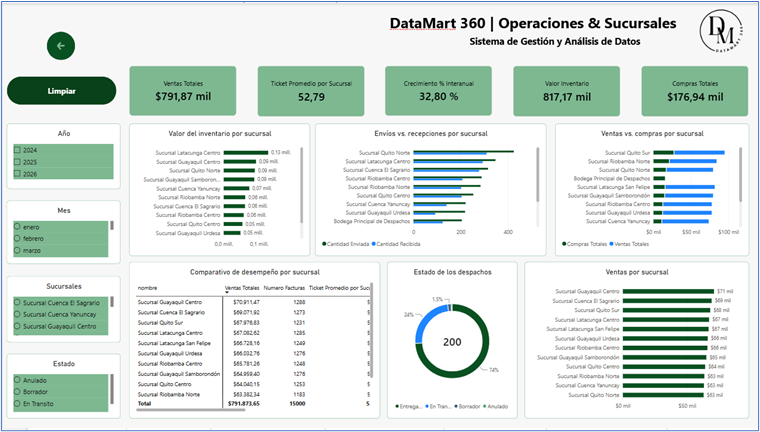

This screenshot's page, from the dashboard's own definition file:
{"tool":"powerbi","page":{"name":"Operaciones & Sucursales","canvas":[1920,1080],"ordinal":6},"visuals":[{"type":"textbox","box":[973.6,23.5,760.1,55.8],"z":0,"group":"g2"},{"type":"listSlicer","fields":{"Values":["Calendario.Año"]},"box":[11.1,305.6,288.9,166.7],"z":0},{"type":"listSlicer","title":"Mes","fields":{"Values":["Calendario.Nombre Mes"]},"box":[11.1,501.9,288.9,161.1],"z":1000},{"type":"listSlicer","title":"Sucursales","fields":{"Values":["sucursales.nombre"]},"box":[11.1,692.6,288.9,168.5],"z":2000},{"type":"listSlicer","title":"Estado","fields":{"Values":["despachos_sucursales.estado"]},"box":[11.1,890.7,288.9,164.8],"z":3000},{"type":"actionButton","box":[113,72.2,72.4,72.4],"z":4000},{"type":"actionButton","title":"Limpiar","box":[11.1,187,278.5,71.6],"z":5000},{"type":"group","id":"g1","title":"Grupo 4","box":[973.6,23.5,760.1,97.7],"z":6000},{"type":"cardVisual","fields":{"Data":["_Medidas.Compras Totales"]},"box":[1623.3,159.3,273,129.6],"z":7000,"group":"g3"},{"type":"barChart","title":"Ventas por sucursal","fields":{"Category":["sucursales.nombre"],"Y":["_Medidas.Ventas Totales"]},"box":[1325.9,657.4,570.4,398.1],"z":7000},{"type":"cardVisual","fields":{"Data":["_Medidas.Ventas Totales"]},"box":[322.2,159.3,273,127.8],"z":8000,"group":"g3"},{"type":"barChart","title":"Ventas vs. compras por sucursal","fields":{"Category":["sucursales.nombre"],"Y":["_Medidas.Compras Totales","_Medidas.Ventas Totales"]},"box":[1403.7,305.6,492.6,337],"z":8000},{"type":"cardVisual","fields":{"Data":["_Medidas.Valor Inventario"]},"box":[1298,159.3,273,129.6],"z":9000,"group":"g3"},{"type":"clusteredBarChart","title":"Valor del inventario por sucursal","fields":{"Category":["sucursales.nombre"],"Y":["_Medidas.Valor Inventario"]},"box":[322.2,305.6,459.3,337],"z":9000},{"type":"cardVisual","fields":{"Data":["_Medidas.Crecimiento % Interanual"]},"box":[972.8,159.3,273,127.8],"z":10000,"group":"g3"},{"type":"pivotTable","title":"Comparativo de desempeño por sucursal","fields":{"Rows":["sucursales.nombre"],"Values":["_Medidas.Ventas Totales","_Medidas.Numero Facturas","_Medidas.Ticket Promedio por Sucursal","_Medidas.Valor Inventario","_Medidas.Compras Totales","_Medidas.Crecimiento % Interanual"]},"box":[322.2,657.4,637,398.1],"z":10000},{"type":"group","id":"g2","title":"Grupo 2","box":[973.6,23.5,760.1,97.7],"z":11000,"group":"g1"},{"type":"cardVisual","fields":{"Data":["_Medidas.Ticket Promedio por Sucursal"]},"box":[647.5,159.3,273,129.6],"z":11000,"group":"g3"},{"type":"donutChart","title":"Estado de los despachos","fields":{"Category":["despachos_sucursales.estado"],"Y":["_Medidas.Total Despachos"]},"box":[977.8,657.4,331.5,398.1],"z":11000},{"type":"clusteredBarChart","title":"Envíos vs. recepciones por sucursal","fields":{"Category":["sucursales.nombre"],"Y":["_Medidas.Cantidad Enviada","_Medidas.Cantidad Recibida"]},"box":[794.4,305.6,587,337],"z":12000},{"type":"group","id":"g3","title":"Grupo 1","box":[322.2,159.3,1574.1,129.6],"z":13000},{"type":"image","box":[1757.4,3.7,138.9,137],"z":13001},{"type":"textbox","box":[1187,79.3,534.7,41.9],"z":16000,"group":"g2"}]}

Visuals, with their boxes in screenshot pixels (x1, y1, x2, y2), scaled from the page's 1920x1080 canvas onto the 760x432 screenshot:
textbox: [385, 9, 686, 32]
listSlicer - Calendario.Año: [4, 122, 119, 189]
"Mes" listSlicer: [4, 201, 119, 265]
"Sucursales" listSlicer: [4, 277, 119, 344]
"Estado" listSlicer: [4, 356, 119, 422]
actionButton: [45, 29, 73, 58]
"Limpiar" actionButton: [4, 75, 115, 103]
"Grupo 4" group: [385, 9, 686, 48]
cardVisual - _Medidas.Compras Totales: [643, 64, 751, 116]
"Ventas por sucursal" barChart: [525, 263, 751, 422]
cardVisual - _Medidas.Ventas Totales: [128, 64, 236, 115]
"Ventas vs. compras por sucursal" barChart: [556, 122, 751, 257]
cardVisual - _Medidas.Valor Inventario: [514, 64, 622, 116]
"Valor del inventario por sucursal" clusteredBarChart: [128, 122, 309, 257]
cardVisual - _Medidas.Crecimiento % Interanual: [385, 64, 493, 115]
"Comparativo de desempeño por sucursal" pivotTable: [128, 263, 380, 422]
"Grupo 2" group: [385, 9, 686, 48]
cardVisual - _Medidas.Ticket Promedio por Sucursal: [256, 64, 364, 116]
"Estado de los despachos" donutChart: [387, 263, 518, 422]
"Envíos vs. recepciones por sucursal" clusteredBarChart: [314, 122, 547, 257]
"Grupo 1" group: [128, 64, 751, 116]
image: [696, 1, 751, 56]
textbox: [470, 32, 682, 48]
